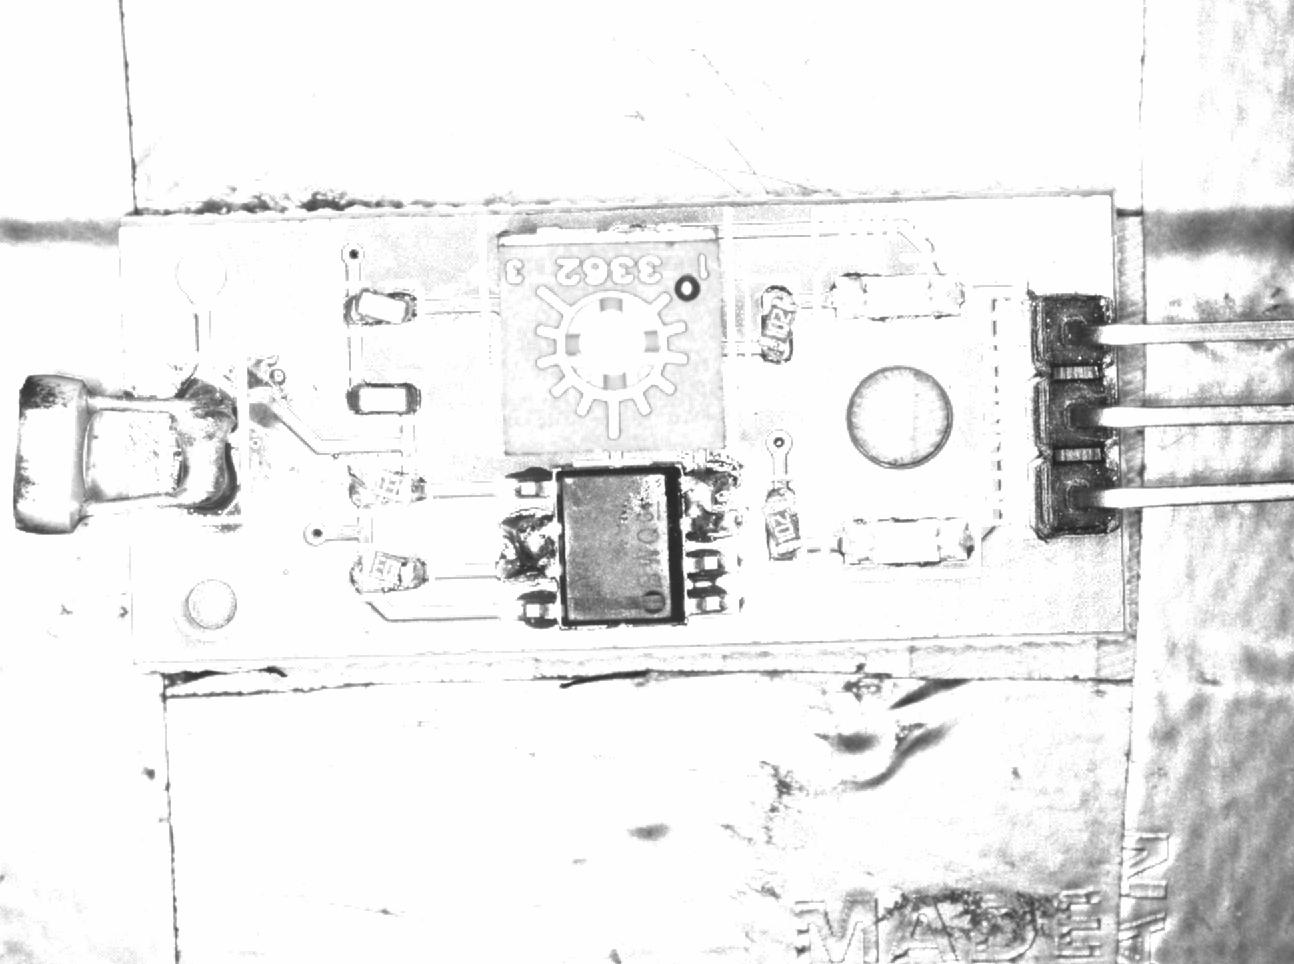bridge: (164, 350, 240, 531), (681, 453, 739, 546), (501, 510, 561, 584)
lifted: (751, 279, 805, 366), (346, 549, 432, 597), (758, 479, 804, 566), (341, 466, 432, 507), (339, 285, 424, 328)
ok: (339, 375, 427, 419)
